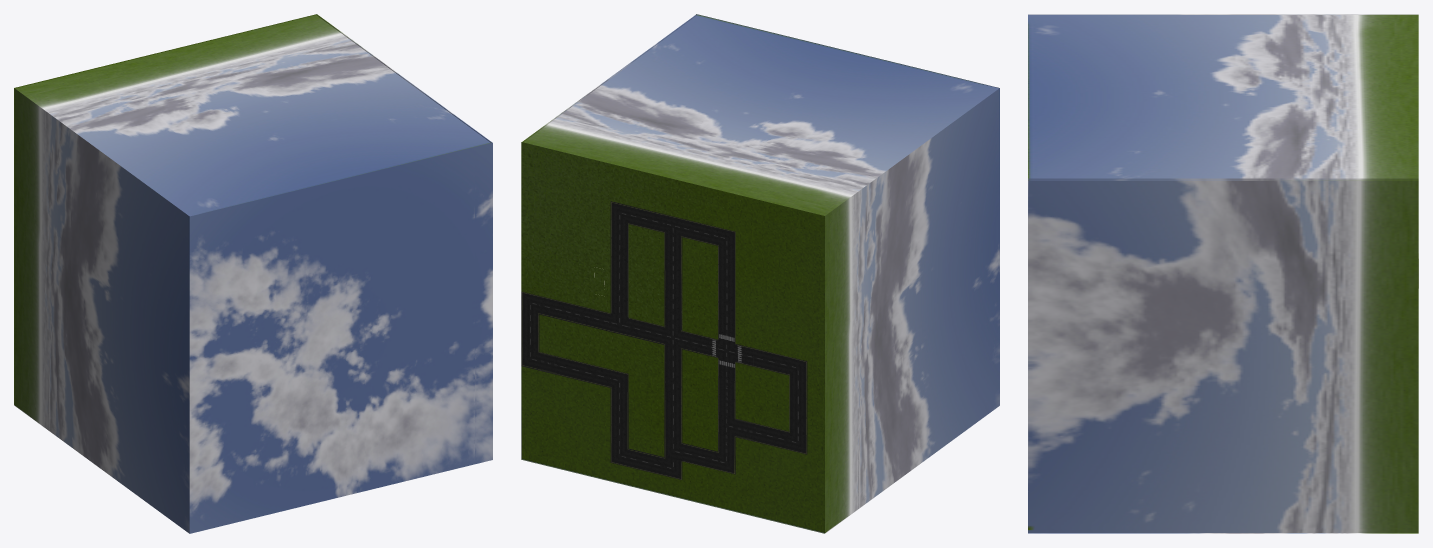
File: Saviano2.obj
The picture shows the model from 3 angles, left to right: view 1: azimuth 30°, elevation 25°; view 2: azimuth 150°, elevation 25°; view 3: azimuth 270°, elevation 25°; orthographic projection. The views are drawn at different scales.
Visible parts, largest first — view 1: Cube; view 2: Cube; view 3: Cube.
Boxes of the visible parts, x1,y1,x2,y2 form: Cube: [14, 14, 492, 533]; Cube: [521, 14, 999, 533]; Cube: [1028, 14, 1418, 533].
Bounding box in the file's own units: 231 × 230 × 230.
Materials: 31 (24 with a texture image).
